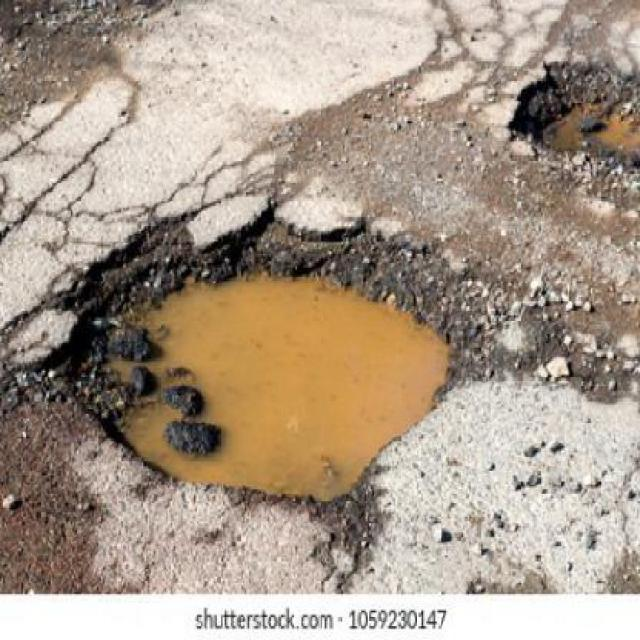Buraco: (0, 196, 480, 512), (504, 56, 640, 174)
